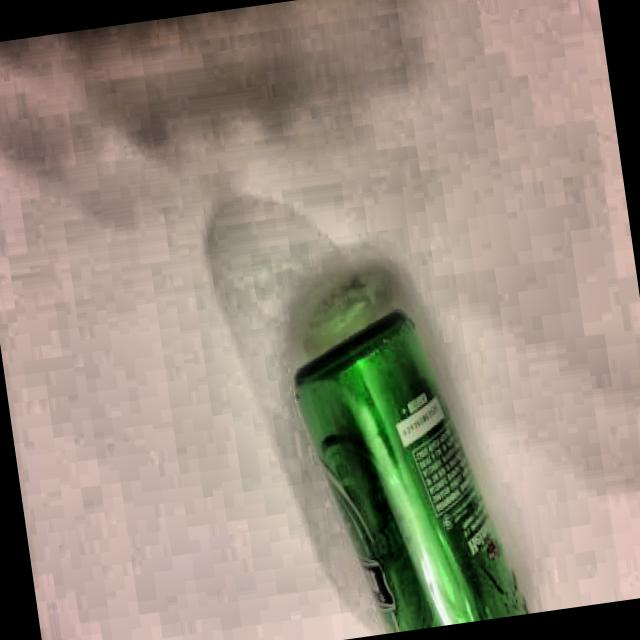glass: (285, 294, 535, 640)
